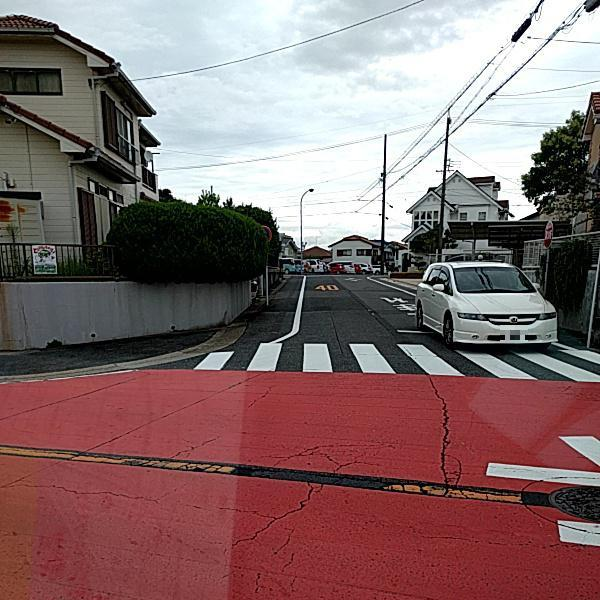D50: (551, 482, 599, 518)
